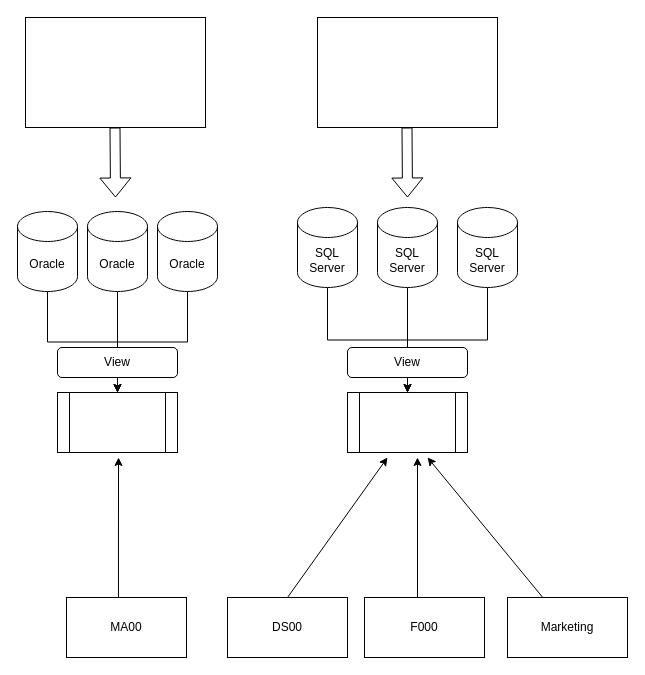
Image size: 645x675. Some labels were removed from this diagram. Here are the shapes that lost their labels. From the top down, the box of each, then its label:
(24, 16, 206, 128): FAB
(316, 16, 498, 128): SAP
(56, 392, 178, 452): EDW-M
(346, 392, 468, 452): EDW-B
